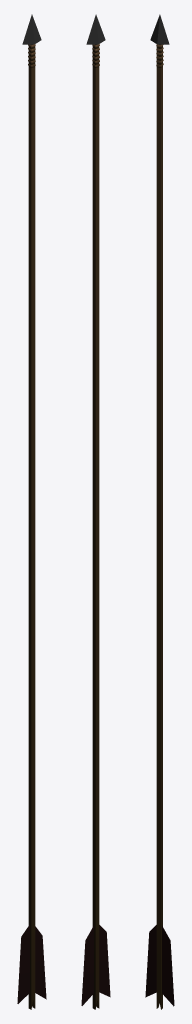
Rendered from Arrow_Tribal.fbx.
3 views of the same model, side by side, from view 1: azimuth 30°, elevation 25°; view 2: azimuth 210°, elevation 25°; view 3: azimuth 330°, elevation 25° (orthographic).
Visible parts, largest first — view 1: Arrow_Tribal; view 2: Arrow_Tribal; view 3: Arrow_Tribal.
Part boxes in pixels (box(x1,y1,x2,y2)): Arrow_Tribal: box(17, 14, 46, 1009); Arrow_Tribal: box(81, 14, 110, 1009); Arrow_Tribal: box(145, 14, 174, 1009).
Bounding box in the file's own units: 10.5 × 350 × 3.54.
